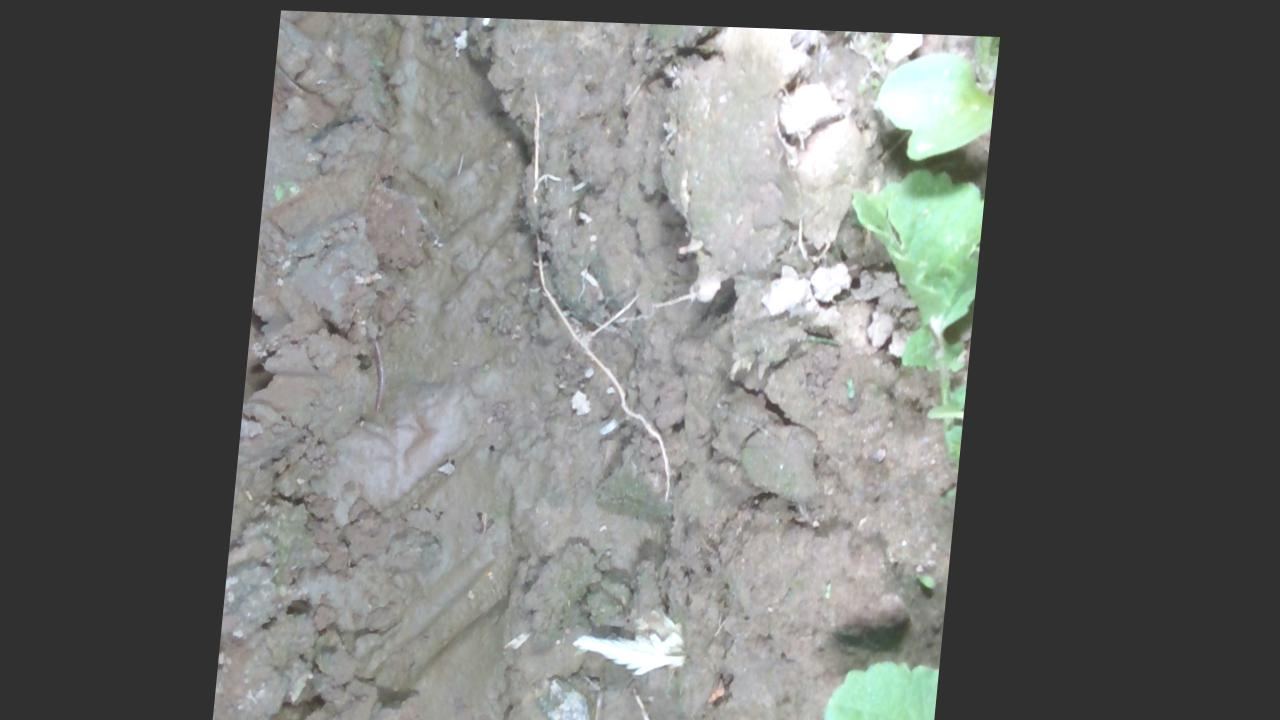weed: (835, 573, 846, 592)
